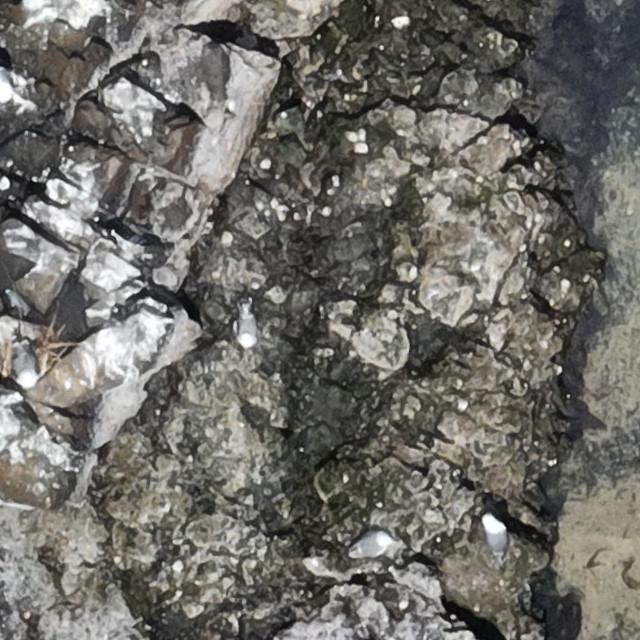umineko: (12, 331, 37, 390), (352, 532, 392, 557), (484, 518, 504, 558), (238, 312, 255, 348)
